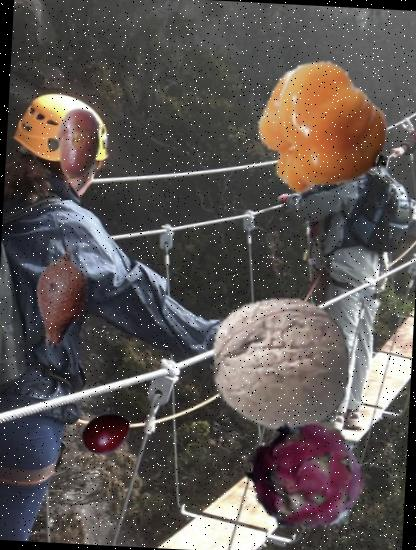Pepper: (252, 55, 400, 204)
Pitahaya: (248, 412, 374, 538)
Potato: (40, 105, 118, 182)
Salak: (8, 244, 115, 351)
Tamarillo: (76, 406, 133, 462)
Walnut: (207, 292, 353, 438)
